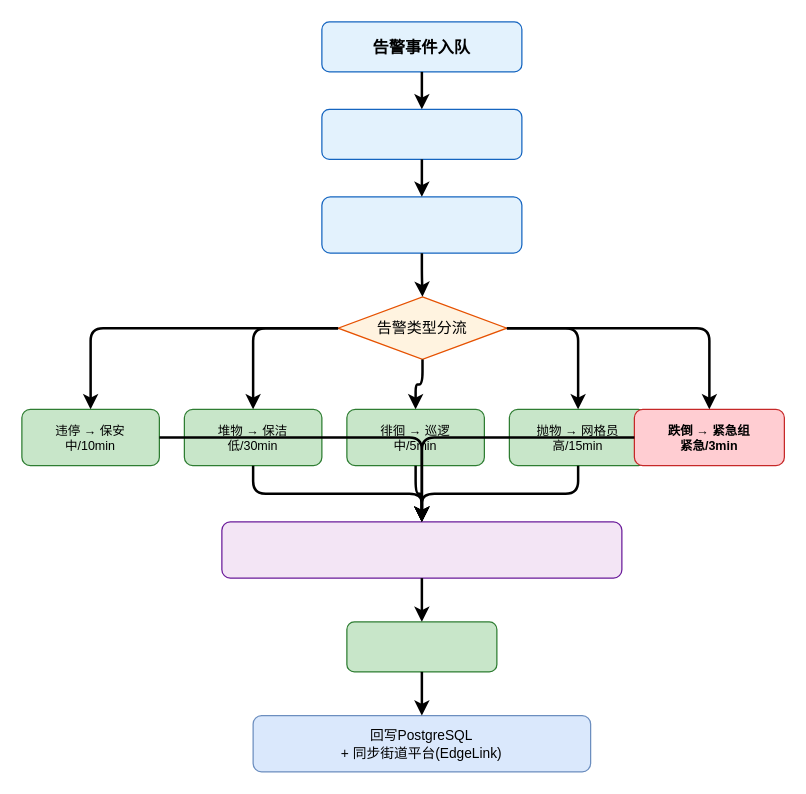
The diagram is 806 pixels wide and 794 high, and some of its shapes have lost their labels. The shapes that lost their labels are listed below. From the top down, each one's centre as x and y in pixels, then its label:
pixel 421 133: AgentBuilder分析
pixel 421 224: SaaS Composer 生成工单
pixel 421 549: 工单状态机流转 待接单→处理中→已处置→待确认
pixel 421 646: 已关闭
